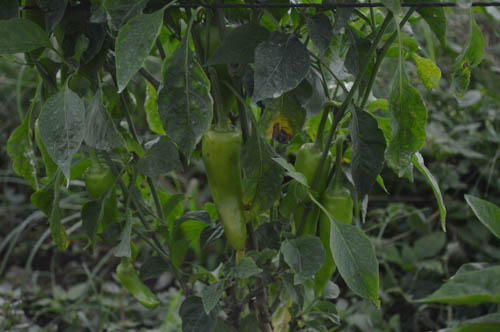ChiliPepper: (199, 129, 256, 251), (284, 128, 334, 259), (316, 186, 361, 312), (77, 162, 121, 233), (108, 258, 166, 310)
